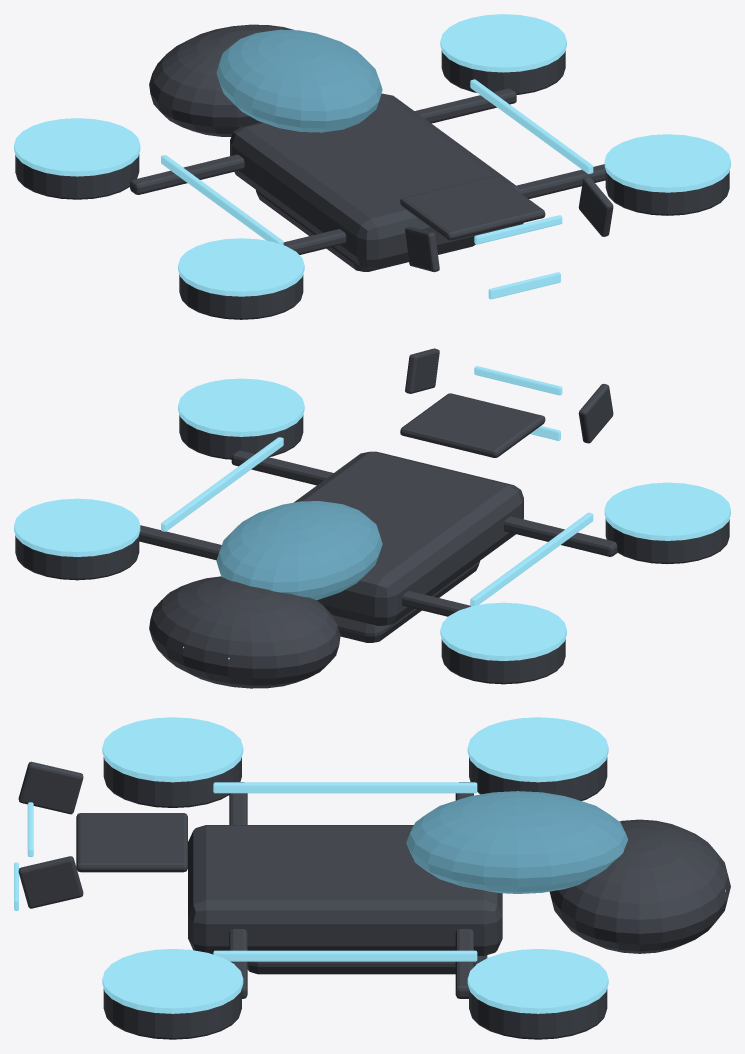
The model's file is drone-cab.glb.
3 views of the same model, one above another, from view 1: azimuth 30°, elevation 25°; view 2: azimuth 150°, elevation 25°; view 3: azimuth 270°, elevation 25° (orthographic). The views are drawn at different scales.
Parts seen in each view (by area): view 1: DR_cab_Body, DR_cab_rim.003, DR_cab_rim, DR_cab_rim.001, DR_cab_rim.002, DR_cab_duct.003, DR_cab_duct.002, DR_cab_duct, DR_cab_duct.001, DR_cab_strut, DR_cab_strut.001, DR_cab_strut.003 (+1 smaller); view 2: DR_cab_Body, DR_cab_rim, DR_cab_rim.003, DR_cab_rim.001, DR_cab_rim.002, DR_cab_duct, DR_cab_duct.001, DR_cab_duct.002, DR_cab_duct.003, DR_cab_strut.002, DR_cab_strut.003, DR_cab_strut.001 (+1 smaller); view 3: DR_cab_Body, DR_cab_rim.001, DR_cab_rim.003, DR_cab_rim, DR_cab_rim.002, DR_cab_duct.001, DR_cab_duct.003, DR_cab_duct.002, DR_cab_duct, DR_cab_strut.001, DR_cab_strut.003, DR_cab_strut.002.
Part boxes in pixels (x1,y1,x2,y2): DR_cab_Body: [149, 24, 613, 299]; DR_cab_rim.003: [604, 134, 730, 192]; DR_cab_rim: [14, 118, 140, 176]; DR_cab_rim.001: [440, 14, 566, 72]; DR_cab_rim.002: [178, 238, 304, 296]; DR_cab_duct.003: [605, 170, 729, 215]; DR_cab_duct.002: [179, 274, 303, 319]; DR_cab_duct: [15, 154, 139, 199]; DR_cab_duct.001: [441, 50, 565, 94]; DR_cab_strut: [130, 154, 244, 194]; DR_cab_strut.001: [415, 88, 516, 123]; DR_cab_strut.003: [517, 164, 605, 198]; DR_cab_Body: [149, 348, 613, 688]; DR_cab_rim: [440, 602, 566, 660]; DR_cab_rim.003: [178, 378, 304, 436]; DR_cab_rim.001: [14, 498, 140, 556]; DR_cab_rim.002: [604, 482, 730, 540]; DR_cab_duct: [441, 639, 565, 684]; DR_cab_duct.001: [15, 535, 139, 580]; DR_cab_duct.002: [605, 518, 729, 564]; DR_cab_duct.003: [179, 415, 303, 459]; DR_cab_strut.002: [504, 516, 617, 556]; DR_cab_strut.003: [231, 450, 333, 485]; DR_cab_strut.001: [139, 525, 221, 560]; DR_cab_Body: [14, 761, 730, 974]; DR_cab_rim.001: [467, 949, 608, 1013]; DR_cab_rim.003: [102, 949, 243, 1013]; DR_cab_rim: [467, 717, 608, 782]; DR_cab_rim.002: [102, 717, 243, 782]; DR_cab_duct.001: [469, 989, 607, 1039]; DR_cab_duct.003: [103, 989, 241, 1039]; DR_cab_duct.002: [103, 757, 241, 807]; DR_cab_duct: [469, 757, 607, 800]; DR_cab_strut.001: [455, 929, 473, 998]; DR_cab_strut.003: [229, 929, 247, 998]; DR_cab_strut.002: [229, 782, 247, 824].
Size of the model in its own units: 3.39 by 0.76 by 3.53.
